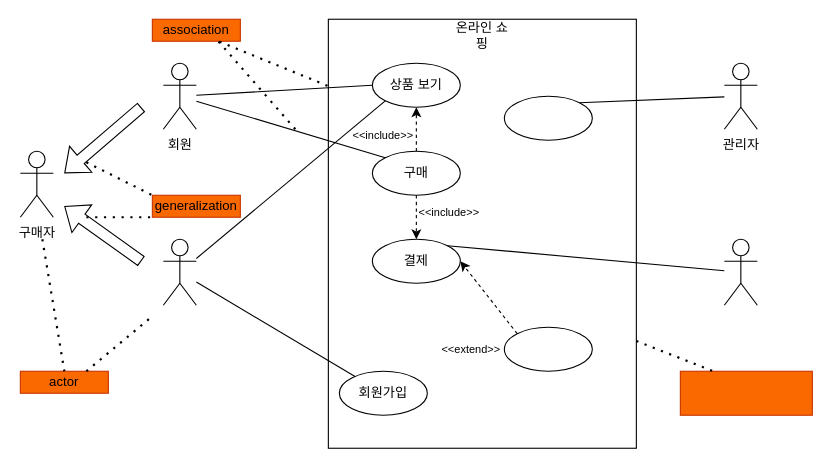
This 832x468 diagram has some shape labels left out. The shapes that lost their labels are listed below. From the top down, each one's centre as x and y in pixels, then its label:
At point (547, 117): "회원관리".
At point (179, 271): "비회원".
At point (740, 271): "PG".
At point (547, 348): "주소입력".
At point (745, 392): "System Boundary (UseCase Subject)".
